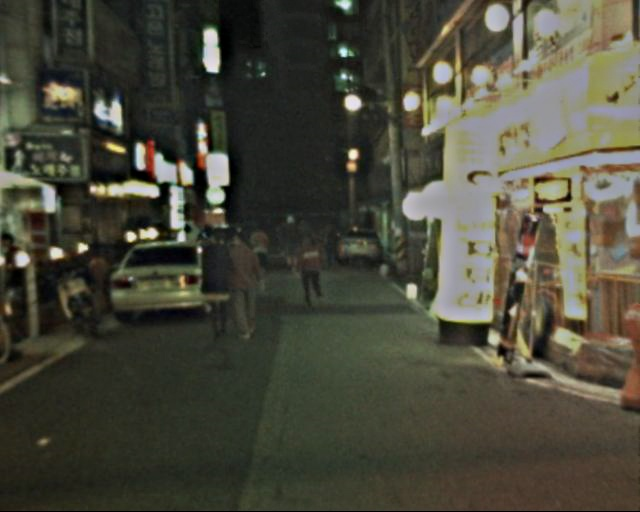person: (203, 225, 246, 351), (222, 227, 267, 346), (299, 225, 335, 313), (245, 218, 276, 289), (278, 211, 307, 272)
